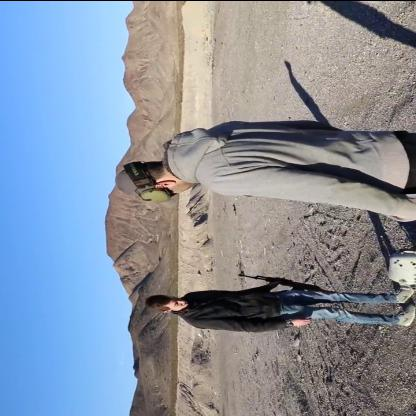long weapon: (230, 268, 334, 296)
